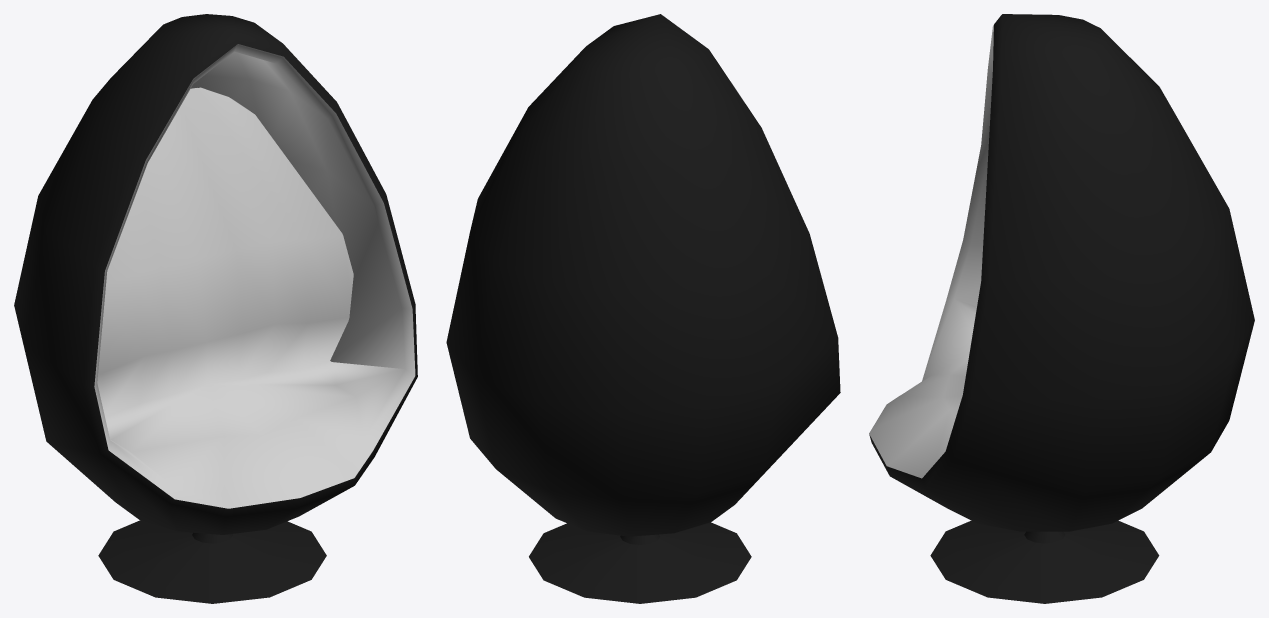
File: Eggchair_B_05.FBX
3 renders of one model, left to right at view 1: azimuth 30°, elevation 25°; view 2: azimuth 150°, elevation 25°; view 3: azimuth 270°, elevation 25°, orthographic. The views are drawn at different scales.
Visible parts, largest first — view 1: Egg_chair; view 2: Egg_chair; view 3: Egg_chair.
Part boxes in pixels (x1,y1,x2,y2): Egg_chair: (14, 14, 417, 603); Egg_chair: (446, 14, 840, 603); Egg_chair: (869, 14, 1254, 603).
Size of the model in its own units: 168 by 261 by 169.
